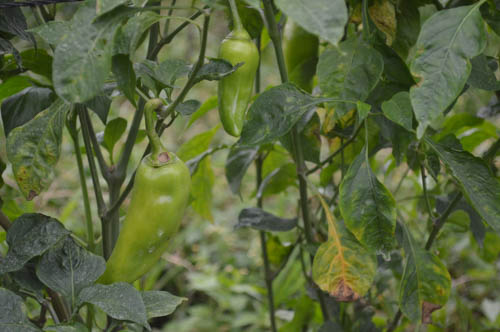ChiliPepper: (98, 157, 192, 285), (216, 38, 257, 140)
